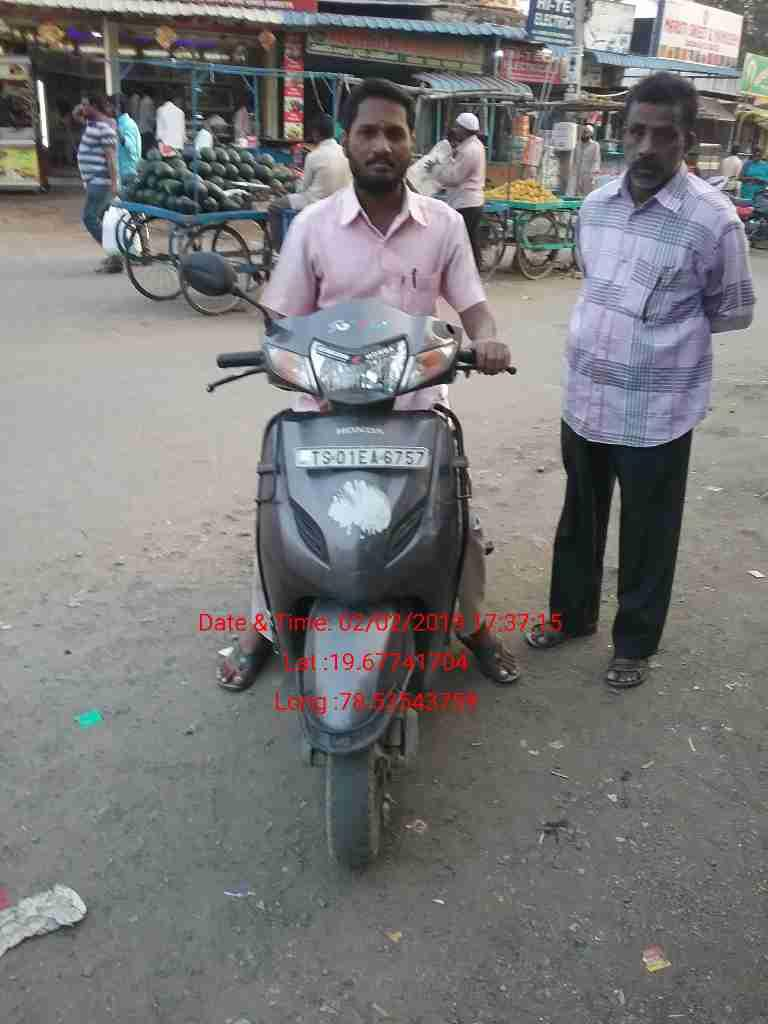plate: (288, 438, 441, 478)
